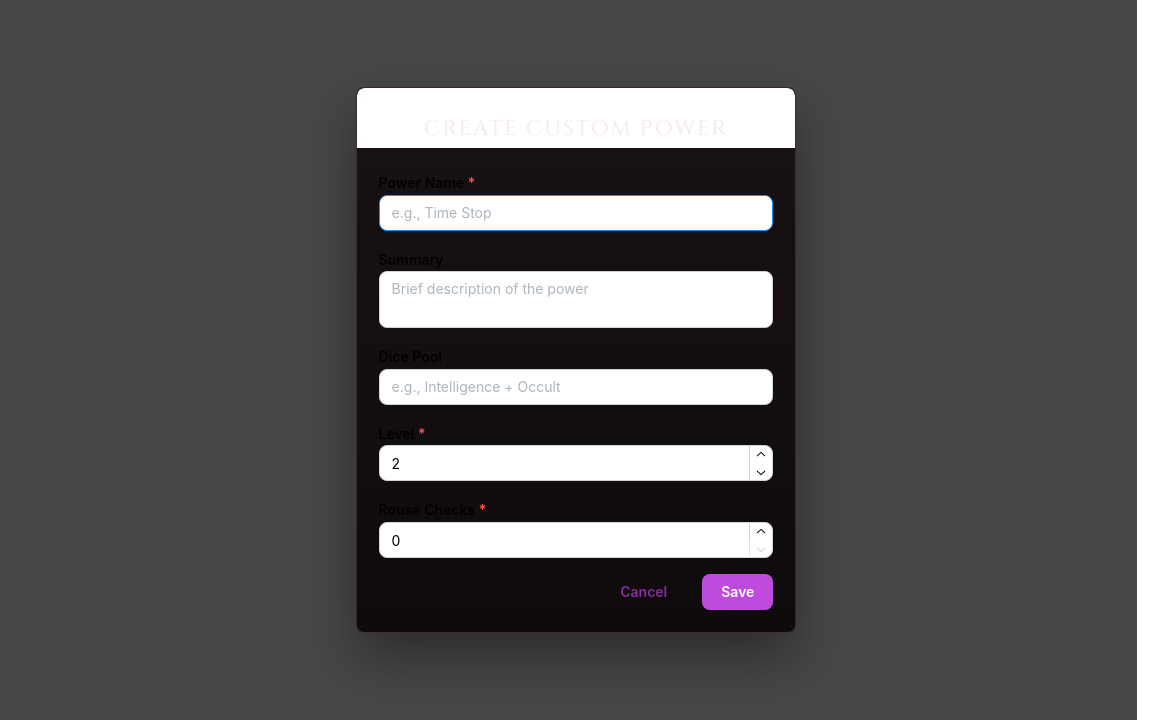
Test: CustomPowerModal discipline levels › rejects a new custom power more than one level above the rating
Type "Time Stop" into the field labelled "Power Name *" at (576, 213), box x1=379 y1=195 x2=773 y2=231
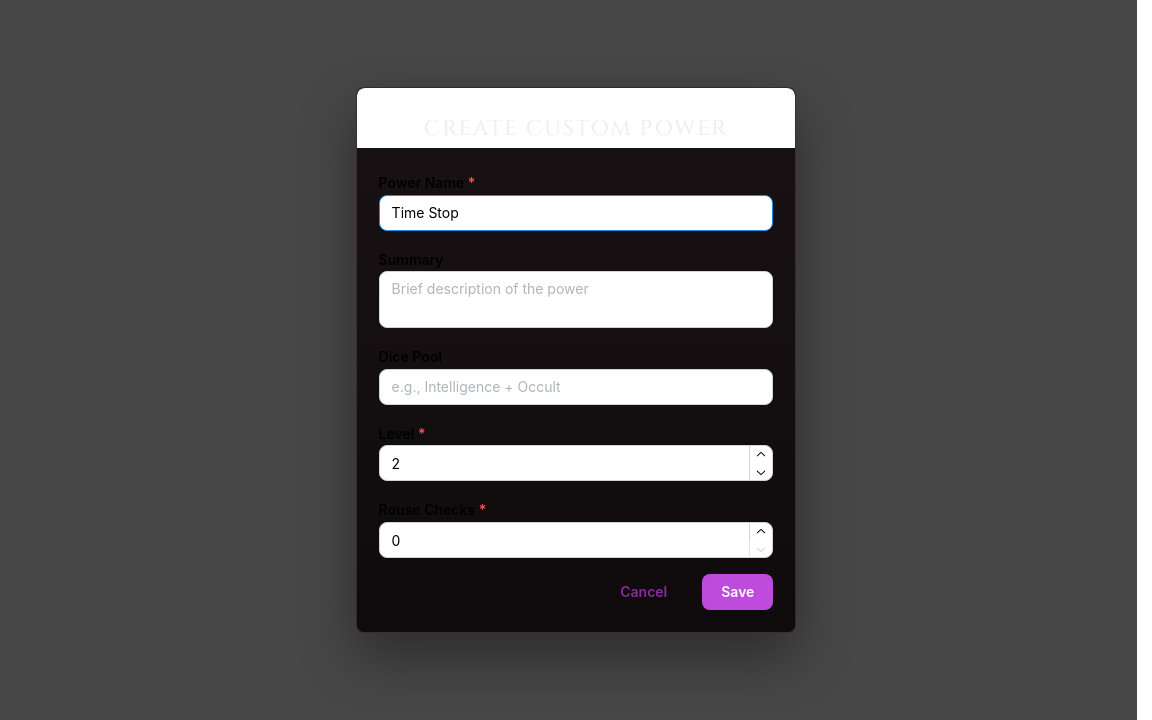
Replace the text in the field labelled "Level *" with "5" at (576, 463), box x1=379 y1=445 x2=773 y2=481
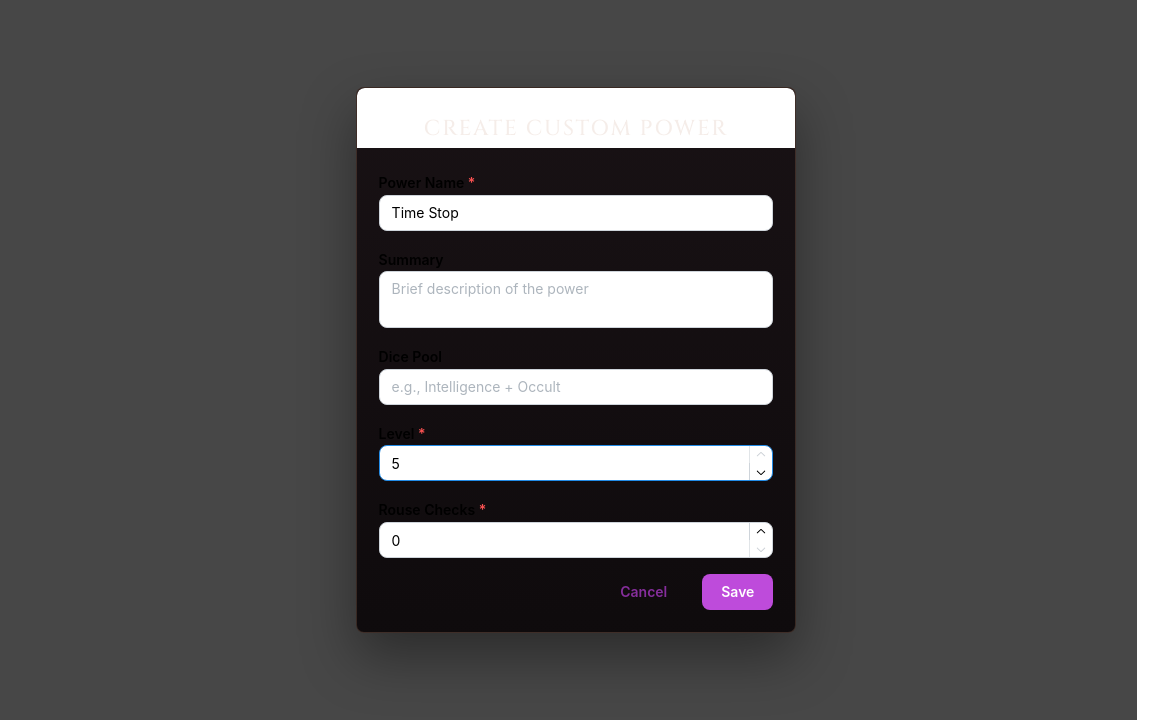
Click the button "Save" at (738, 592), box x1=702 y1=574 x2=774 y2=610
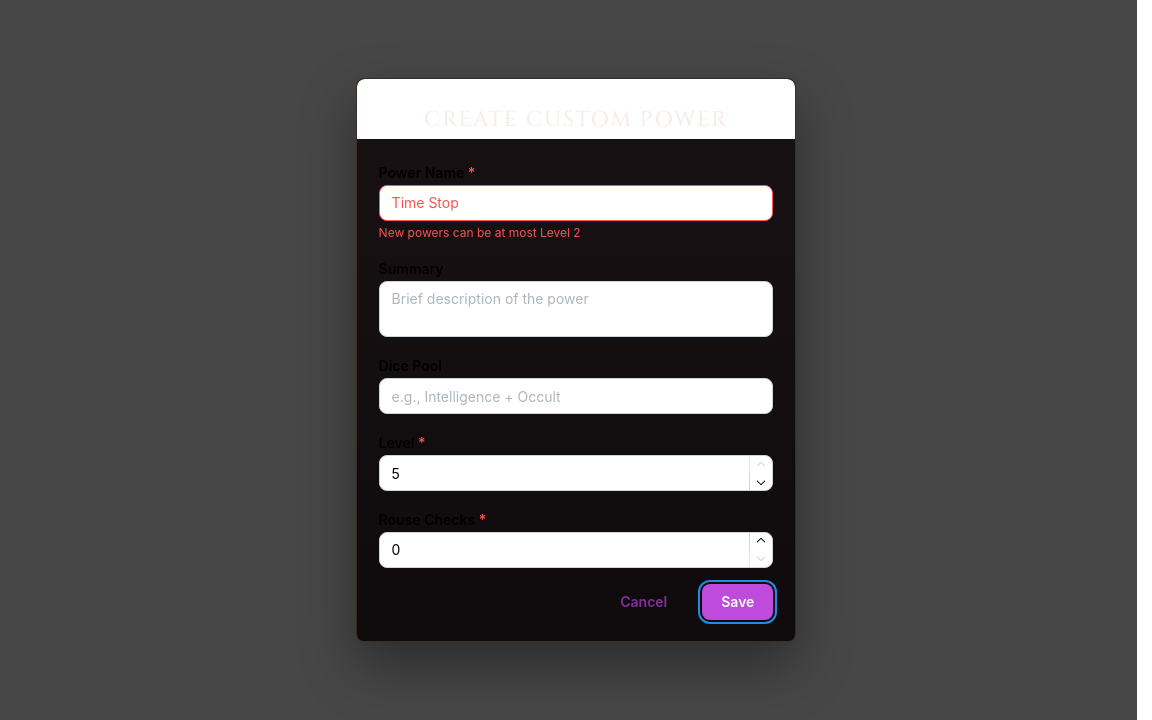
Check: the text "New powers can be at most Level 2" is shown, box x1=379 y1=225 x2=581 y2=240
